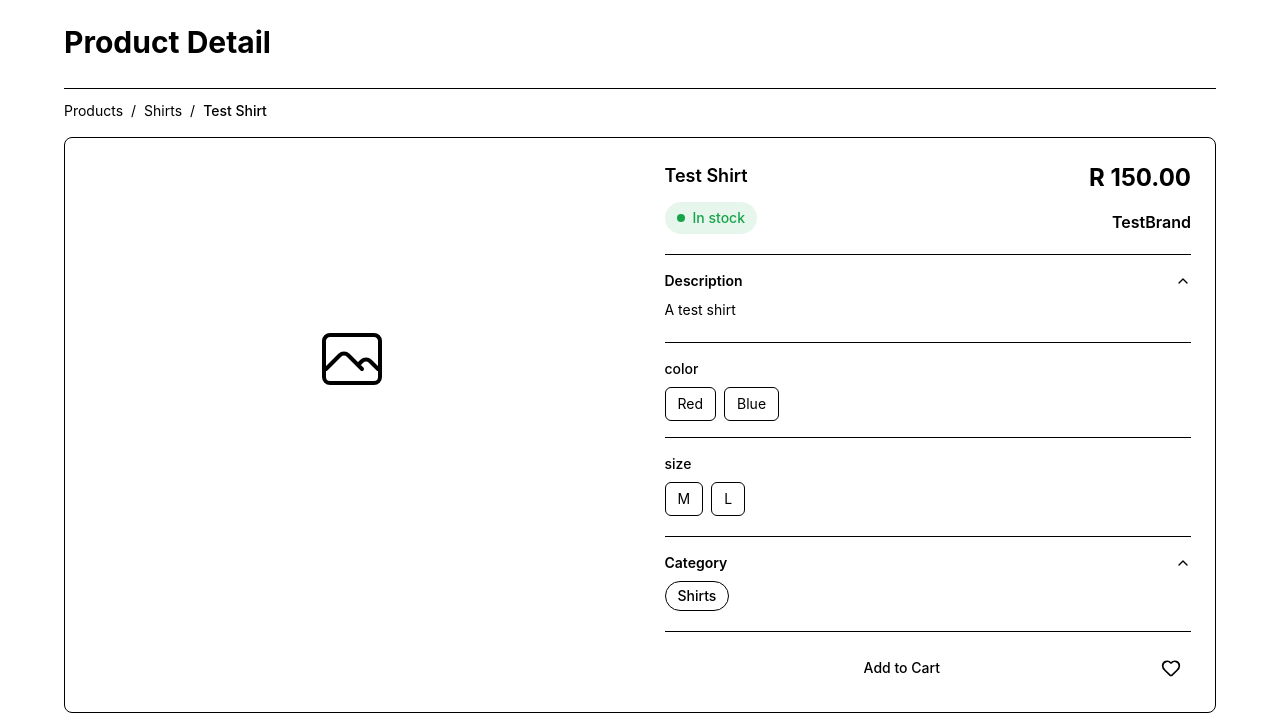
ProductDetailPage — cart integration › shows disabled "Out of stock" button when variant has stockQuantity === 0
The image size is (1280, 720).
Step 1. Click the button "Blue" → [752, 404], box [724,387,779,421]
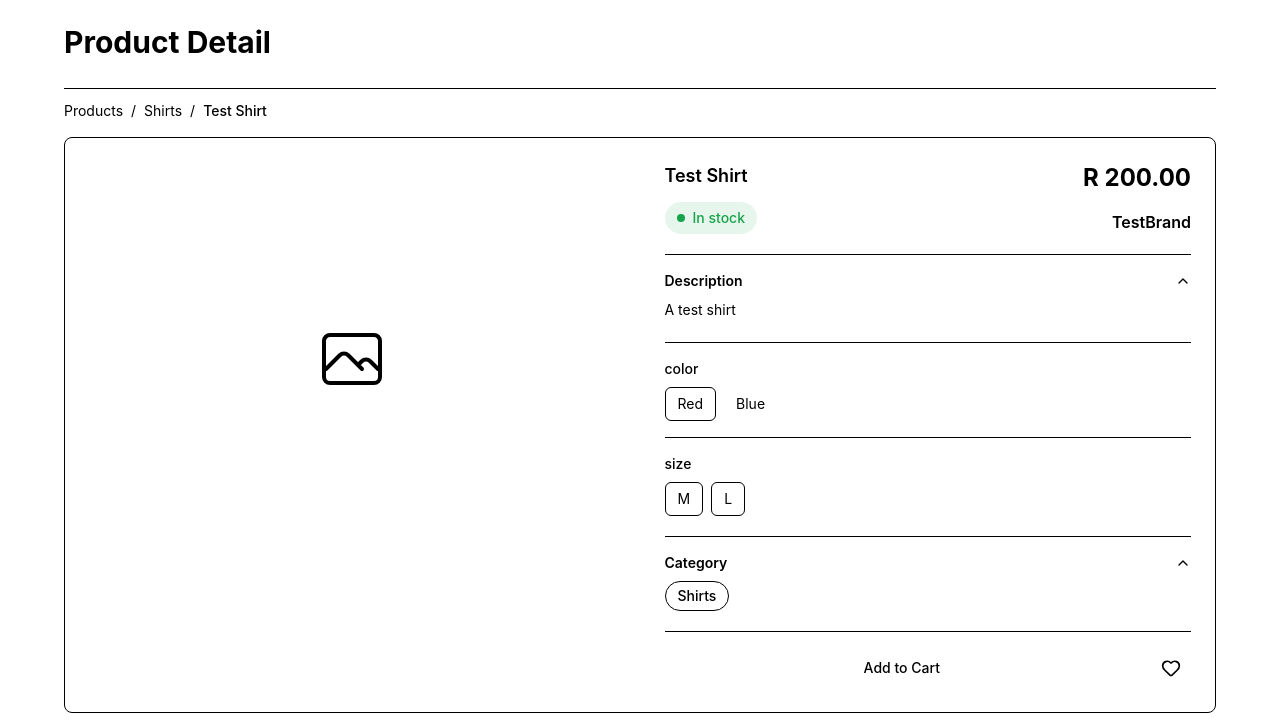
Step 2. Click the button "L" → [728, 499], box [711,482,745,516]
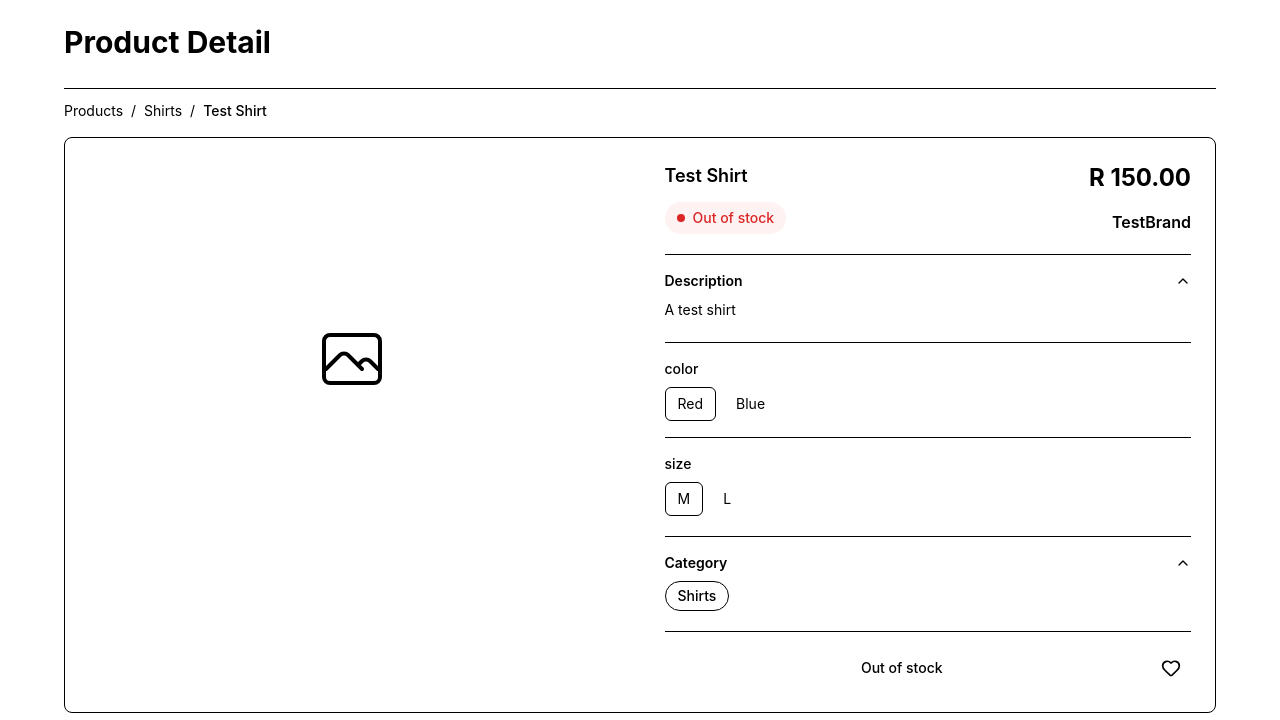
Expected: the button "Out of stock" is disabled, [664,650,1139,686]
Expected: the button "Add to Cart" is gone
